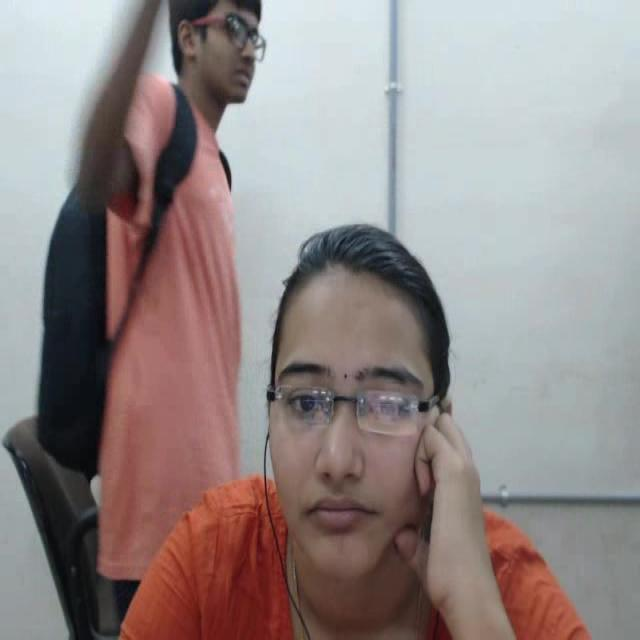Bored: (240, 187, 507, 619)
